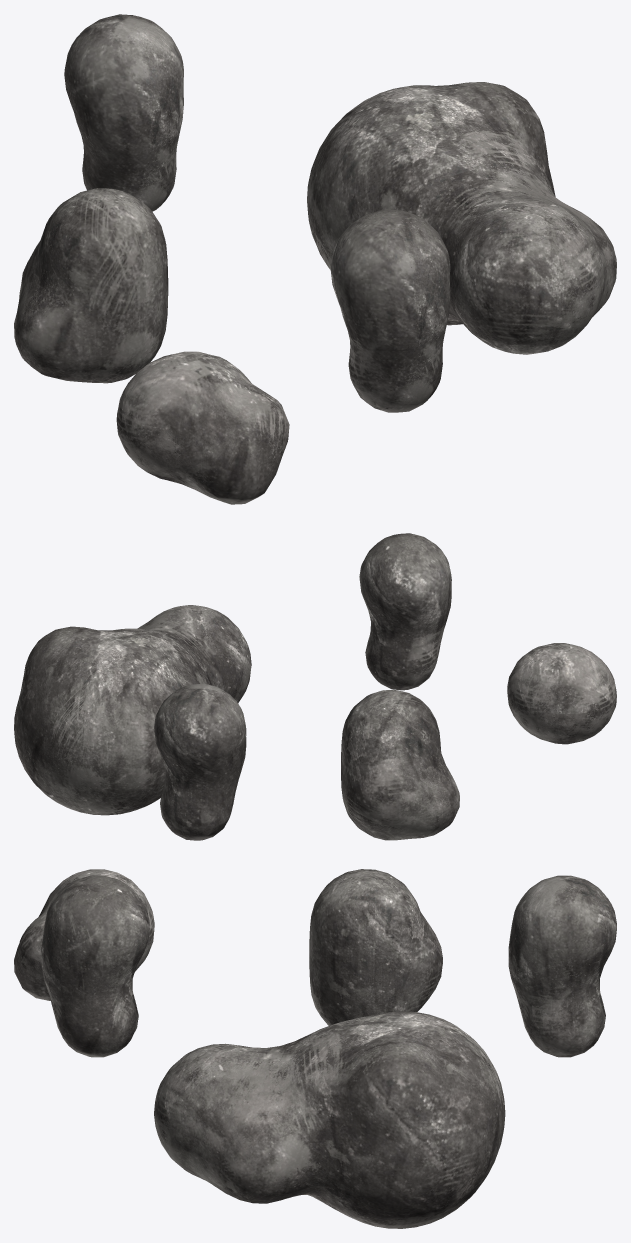
Rendered from stoney_asteroids.glb.
3 views of the same model, one above another, from view 1: azimuth 30°, elevation 25°; view 2: azimuth 150°, elevation 25°; view 3: azimuth 270°, elevation 25° (orthographic). The views are drawn at different scales.
Parts seen in each view (by area): view 1: Mball.000_Mesh.001; view 2: Mball.000_Mesh.001; view 3: Mball.000_Mesh.001.
Boxes of the visible parts, <box> form: Mball.000_Mesh.001: <box>14,14,616,504</box>; Mball.000_Mesh.001: <box>14,533,616,840</box>; Mball.000_Mesh.001: <box>14,869,616,1228</box>.
Bounding box in the file's own units: 1.97 × 0.8879 × 2.
1 material, 1 textured.
